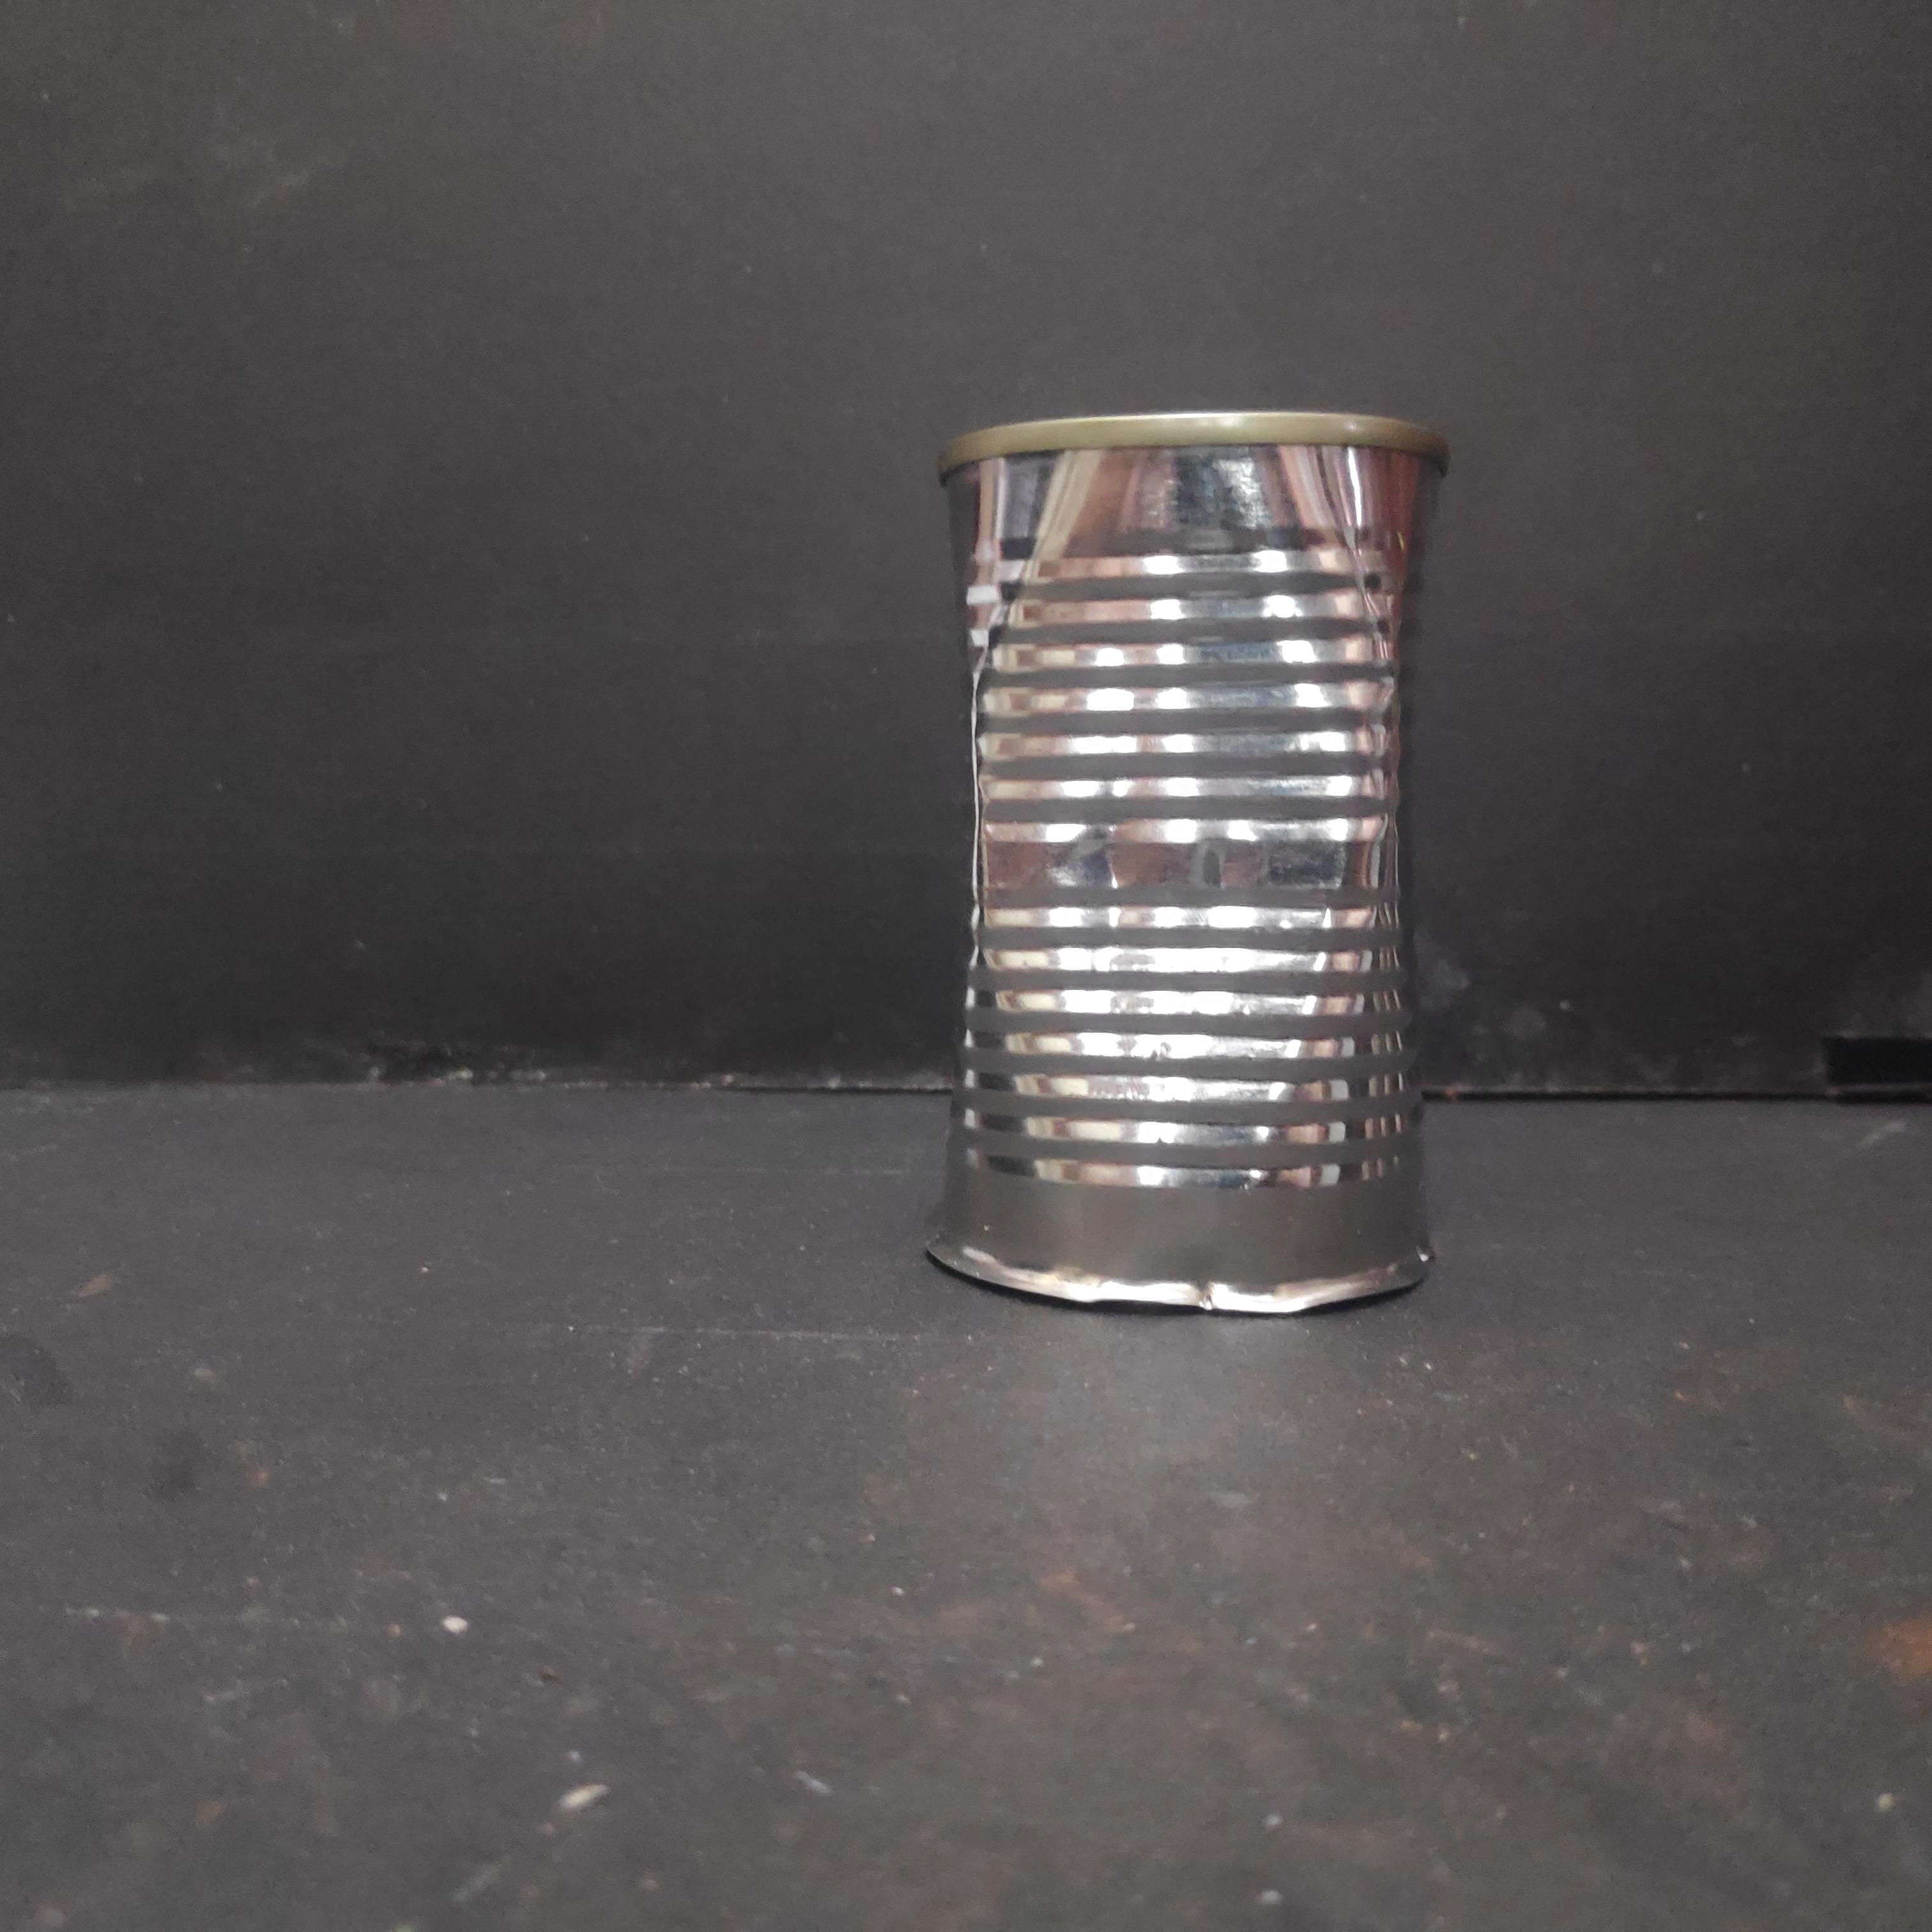Minor Defect: (911, 407, 1456, 1323)
